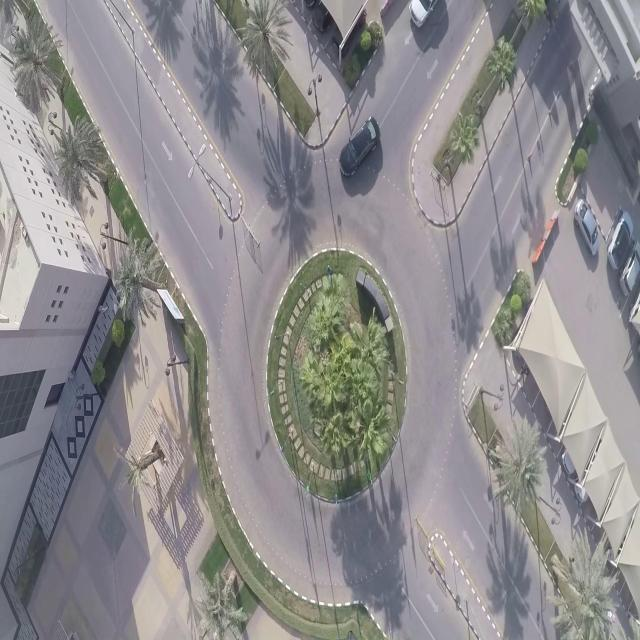car: (339, 118, 381, 178), (608, 211, 634, 273), (574, 198, 600, 255), (409, 0, 447, 30), (621, 242, 640, 301), (312, 0, 335, 32)
